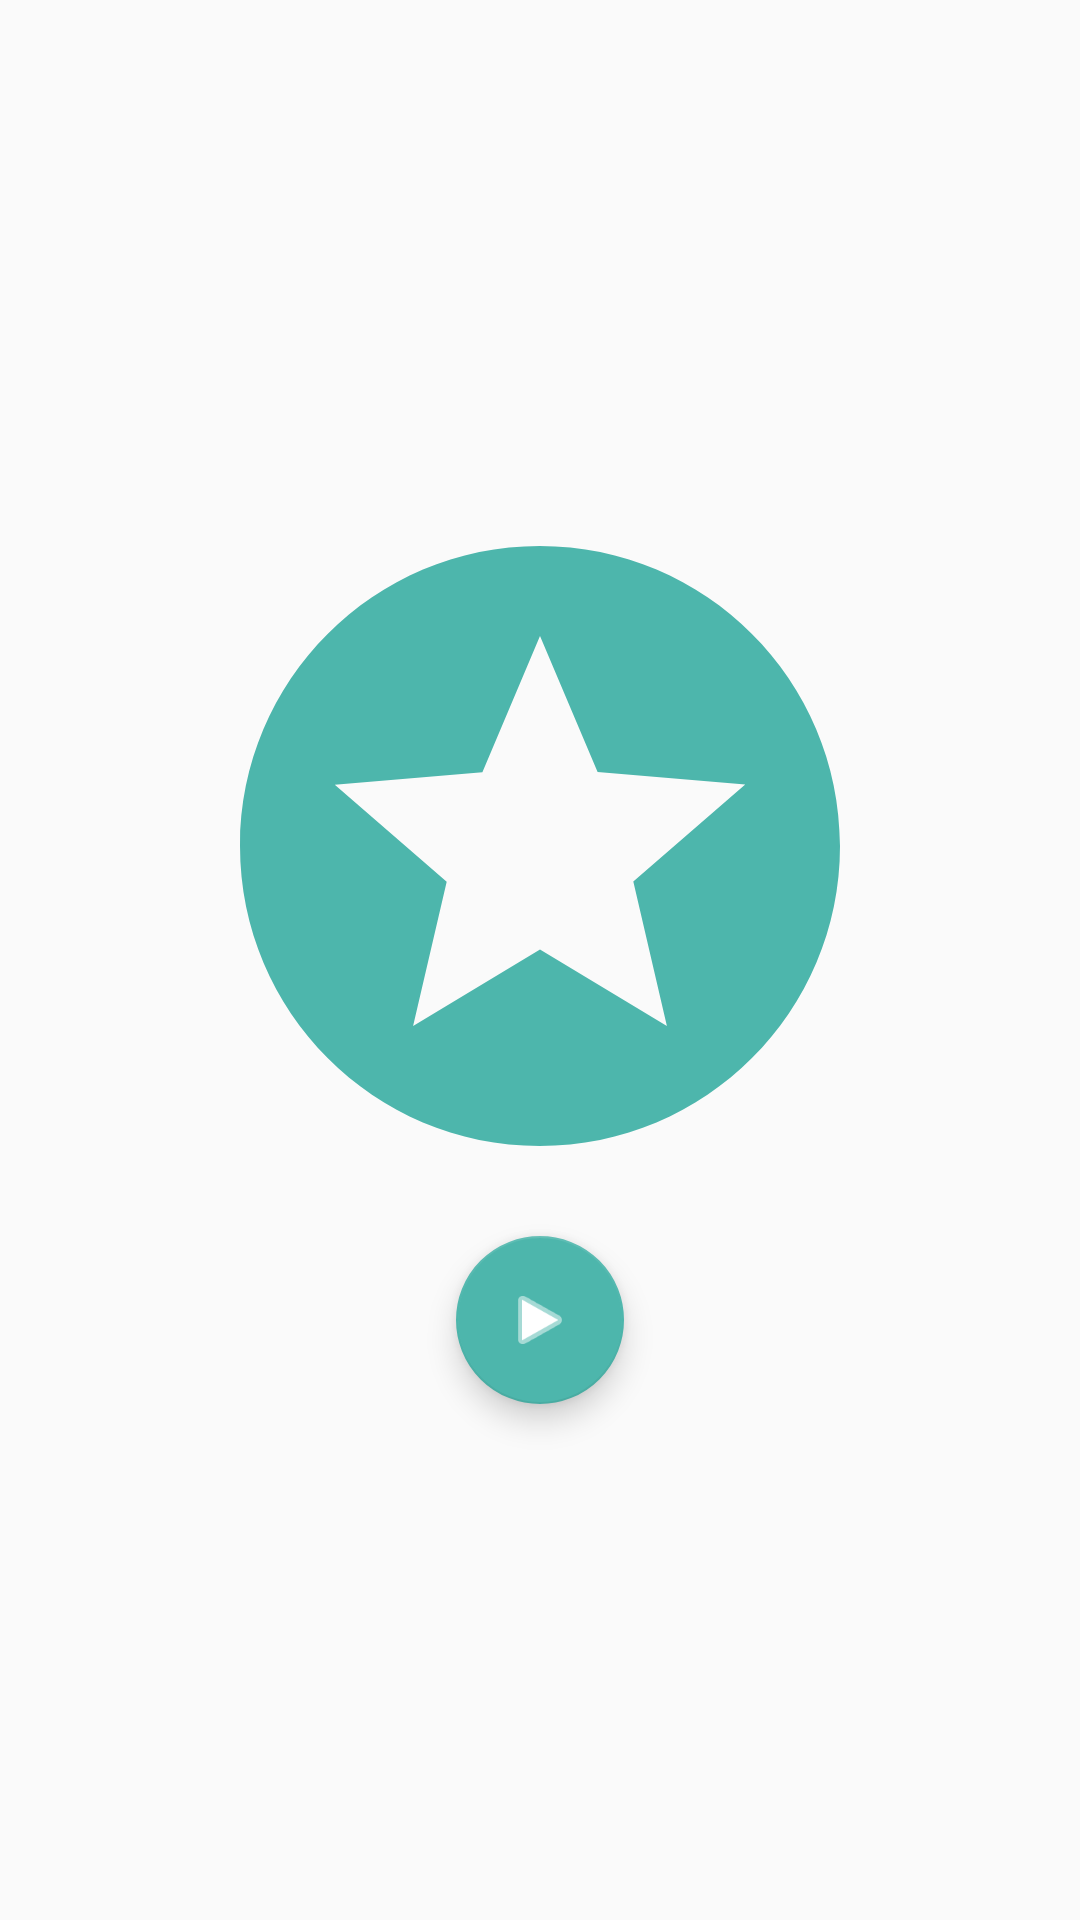

Locate icon controls on the screen. Image size 1080×1920, boxes as (x1, y1, x2, y2).
play: (456, 1236, 624, 1404)
